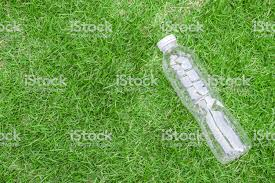plastic_bottle: (155, 34, 253, 165)
